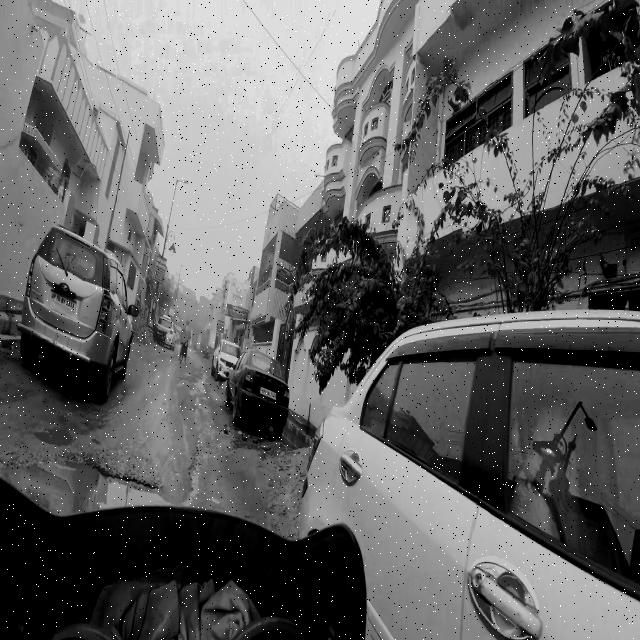Car: (304, 280, 640, 638), (28, 217, 139, 409), (229, 346, 293, 446), (210, 338, 243, 375)
